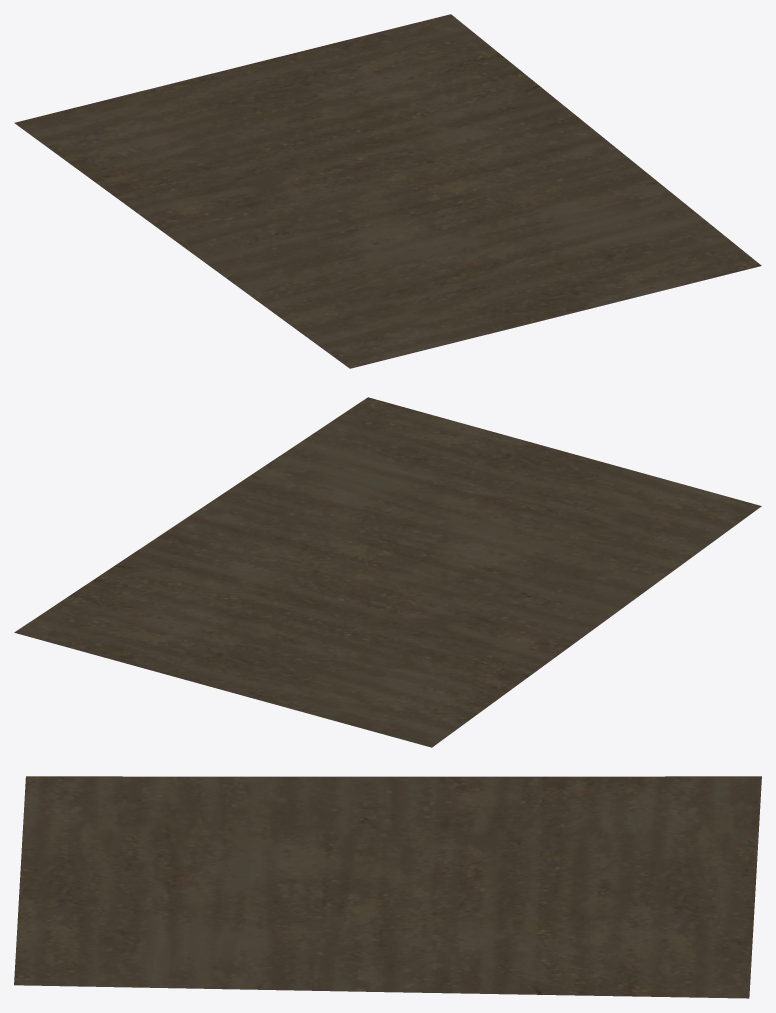
Rendered from blend_path09.fbx.
The picture shows the model from 3 angles, top to bottom: view 1: azimuth 30°, elevation 25°; view 2: azimuth 150°, elevation 25°; view 3: azimuth 270°, elevation 25°; orthographic projection. The views are drawn at different scales.
Parts seen in each view (by area): view 1: new_stone/path_right_shadow; view 2: new_stone/path_right_shadow; view 3: new_stone/path_right_shadow.
Boxes of the visible parts, <box> form: new_stone/path_right_shadow: <box>14,14,761,368</box>; new_stone/path_right_shadow: <box>14,397,761,747</box>; new_stone/path_right_shadow: <box>14,776,761,998</box>.
Bounding box in the file's own units: 3.97 × 0.0688 × 5.44.
